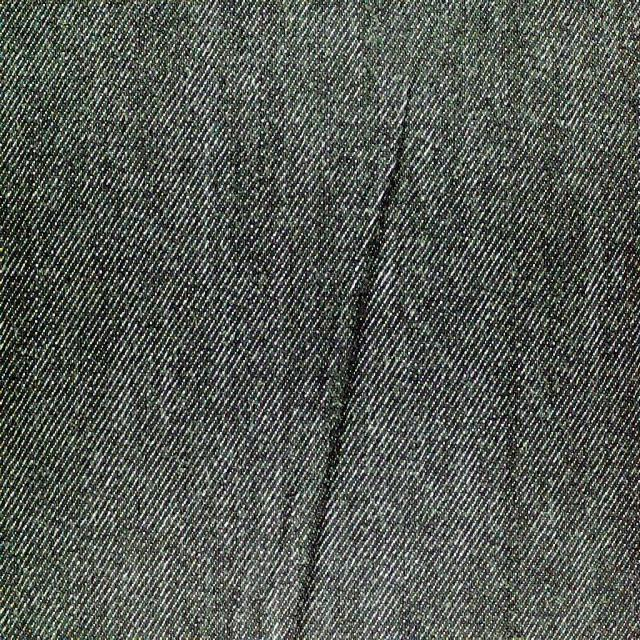Line: (291, 82, 413, 640)
